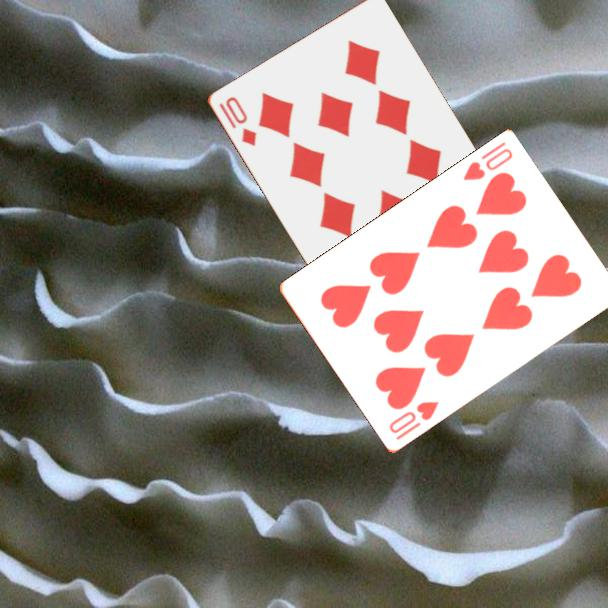d10: (215, 93, 259, 149)
h10: (385, 398, 442, 444), (459, 138, 516, 184)
